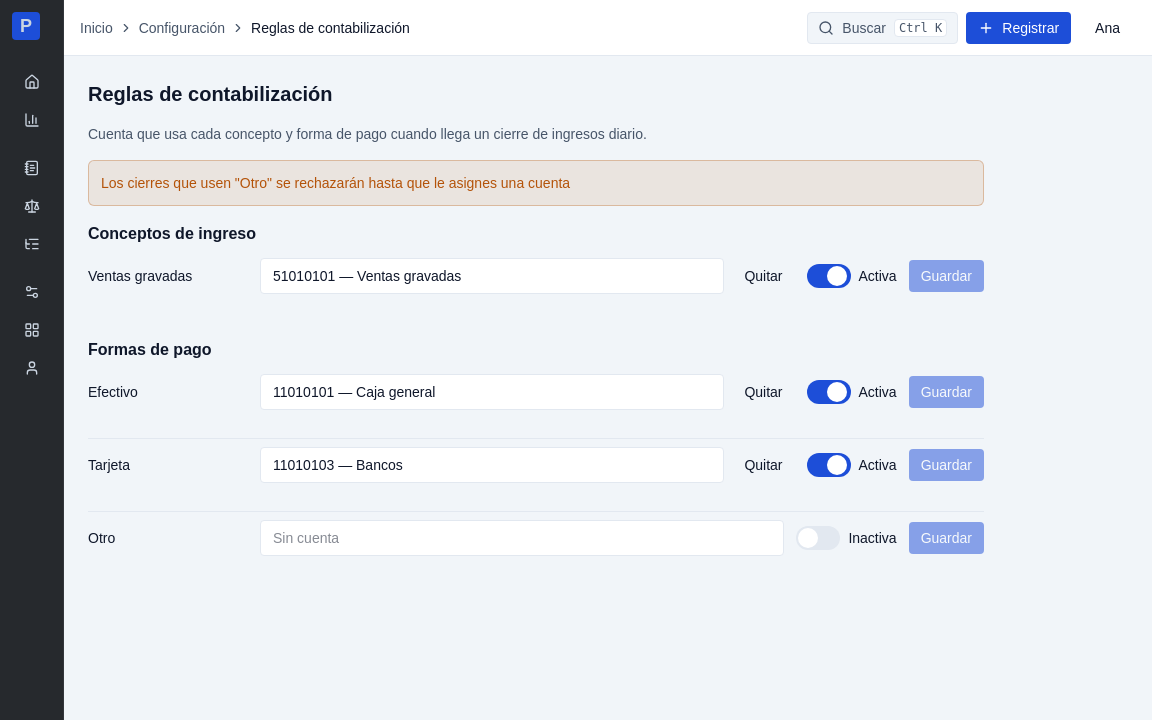
Scenario: pestaña Reglas de Configuración › un 422 CON-006 se muestra junto al campo de cuenta
Click the switch named "Regla activa: Efectivo" at (828, 392), box [806,380,850,404]
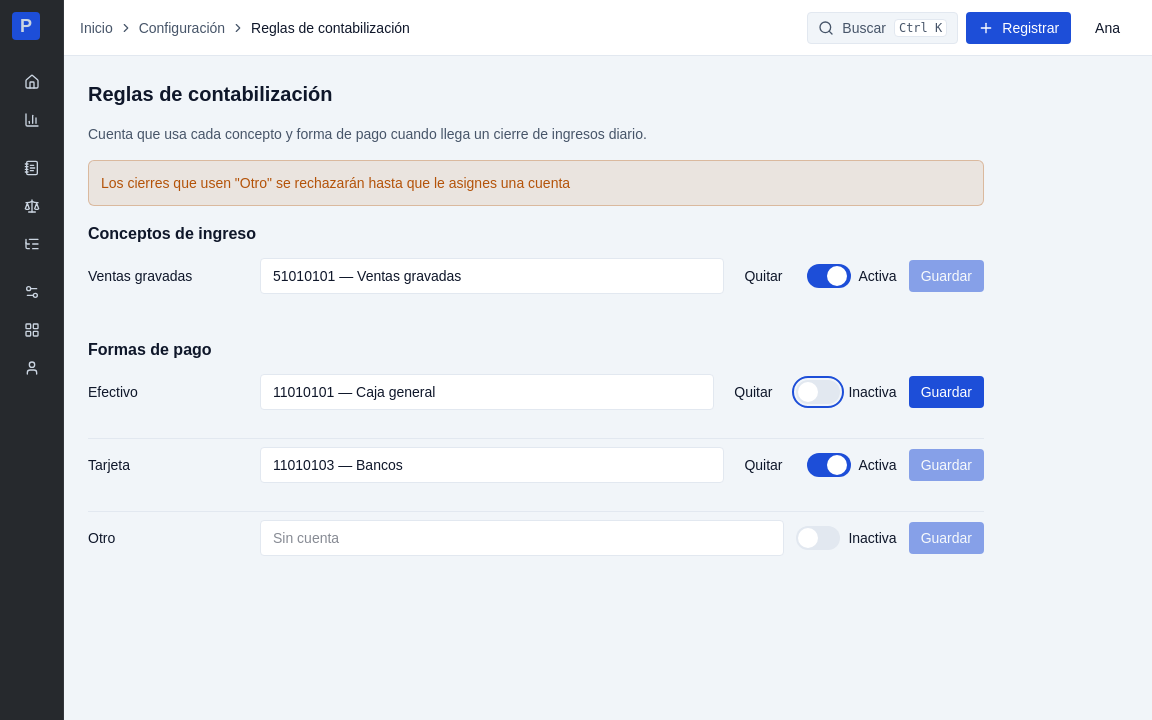
Click the button with aria-label "Guardar Efectivo" at (946, 392), box [909,376,984,408]
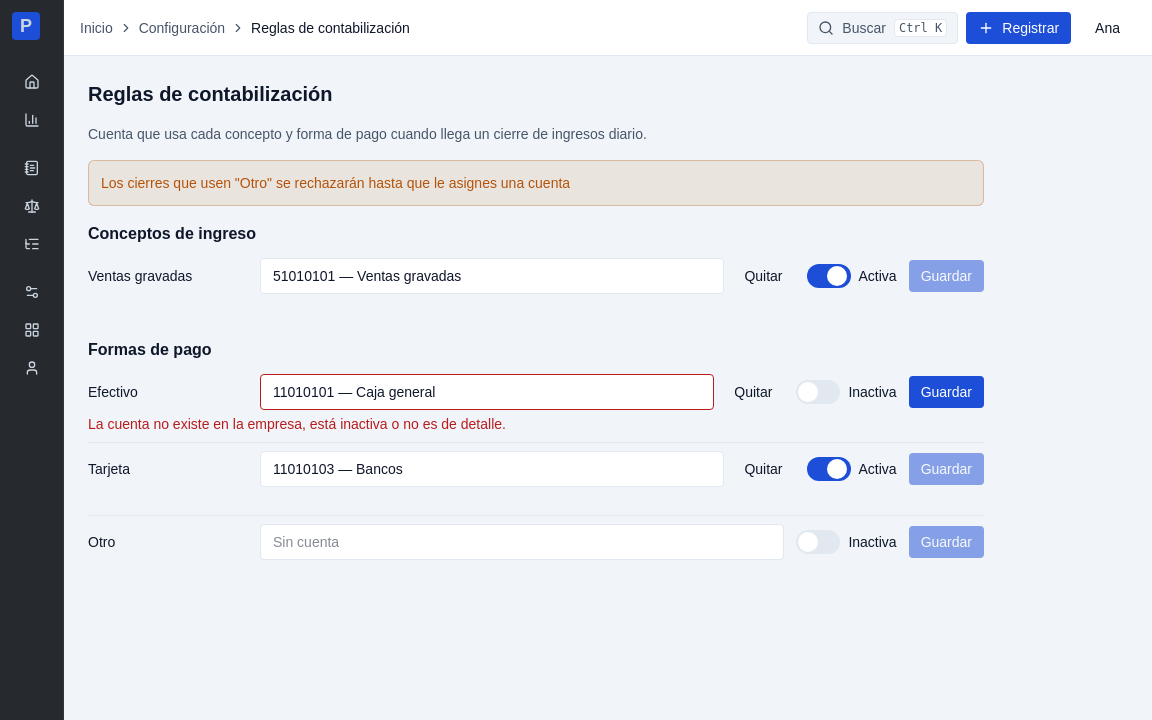
Now the text "La cuenta no existe en la empresa, está inactiva o no es de detalle." is shown, box [88,416,506,432]
